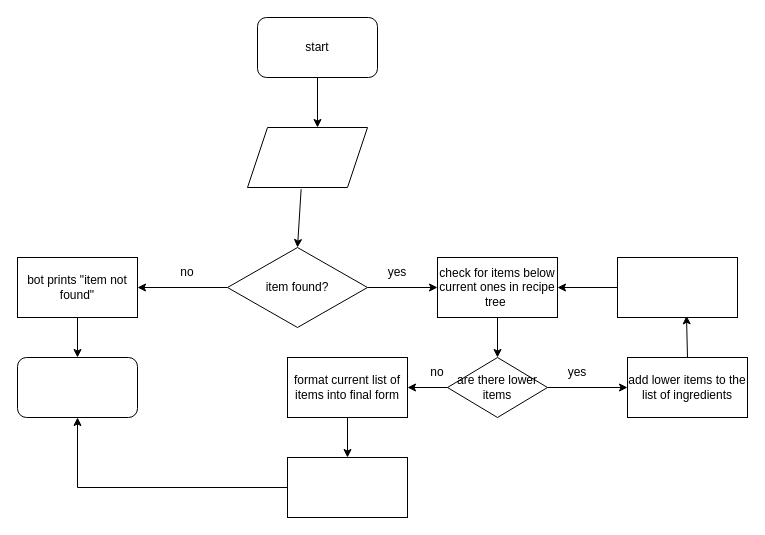
Some shapes in this 765 by 535 pixel diagram are drawn without their labels. Each missing label, with the centre of its shape:
"end" goes at [77,387].
"send final recipe as argument that bot prints" goes at [347,487].
"set next lower items as current items" goes at [677,287].
"user inputs item name" goes at [307,157].
